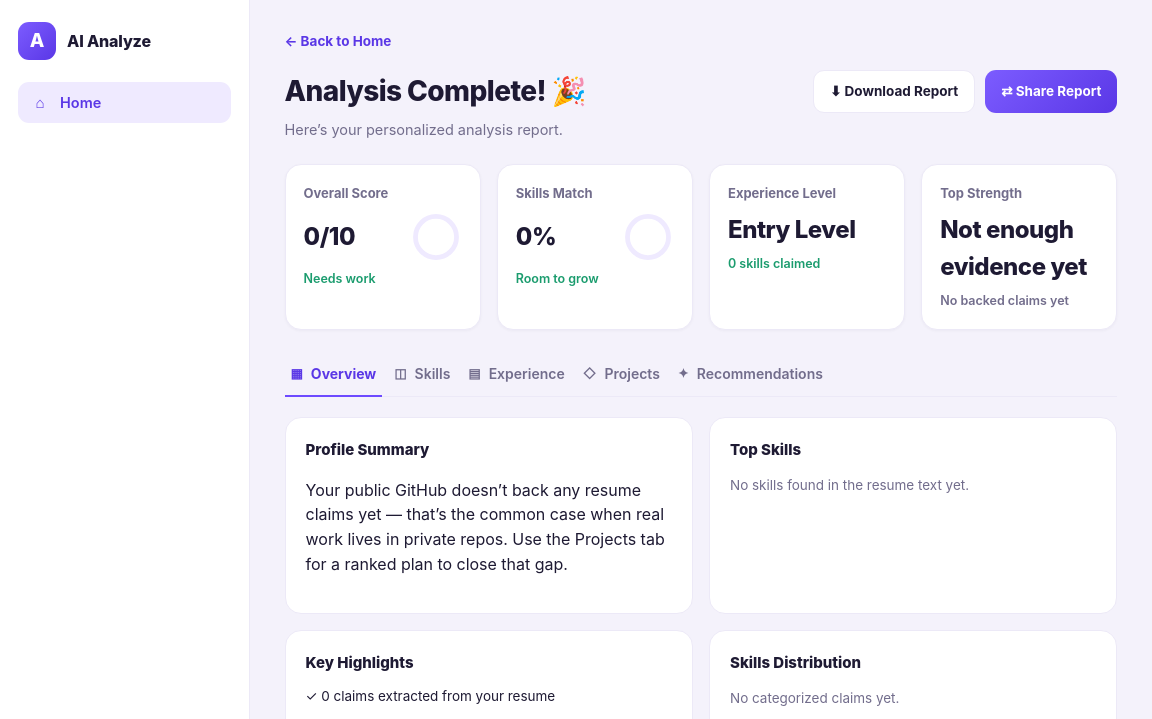
Test: AnalysisDashboard › shows an EmptyState in the Skills tab instead of a blank panel when there are no claims
Click the tab "◫ Skills".
click(422, 375)  # box left=388, top=352, right=456, bottom=397
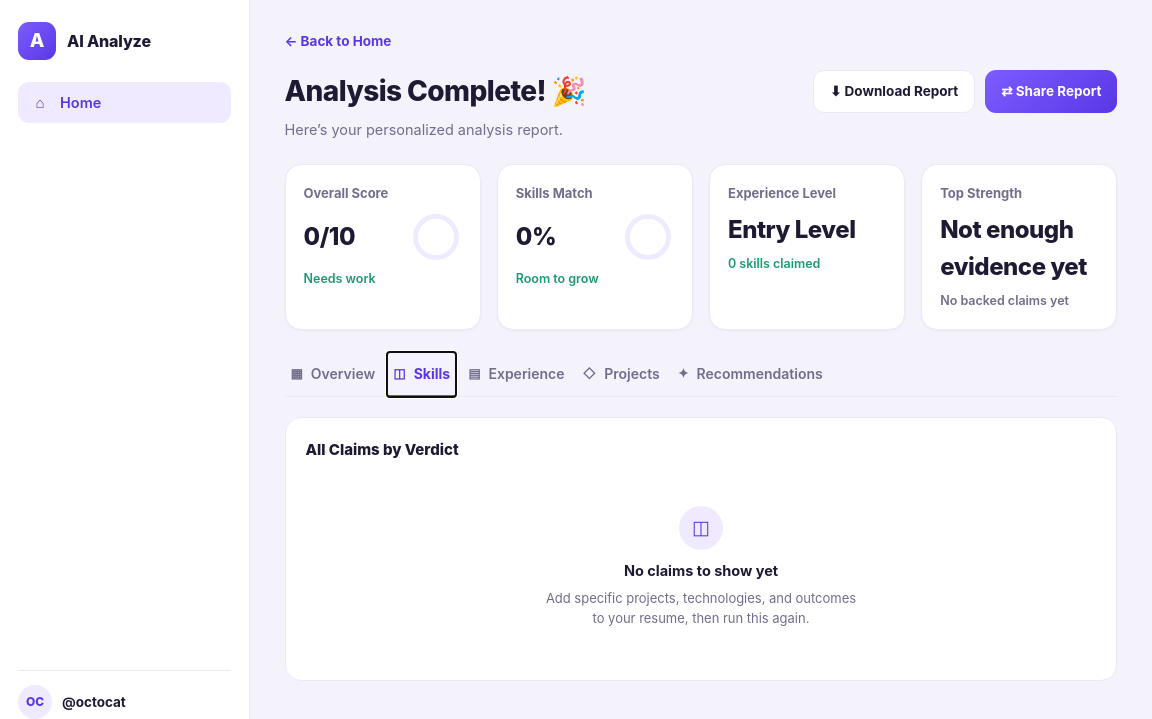
Expected: the text "No claims to show yet" is shown, left=624, top=560, right=778, bottom=582
